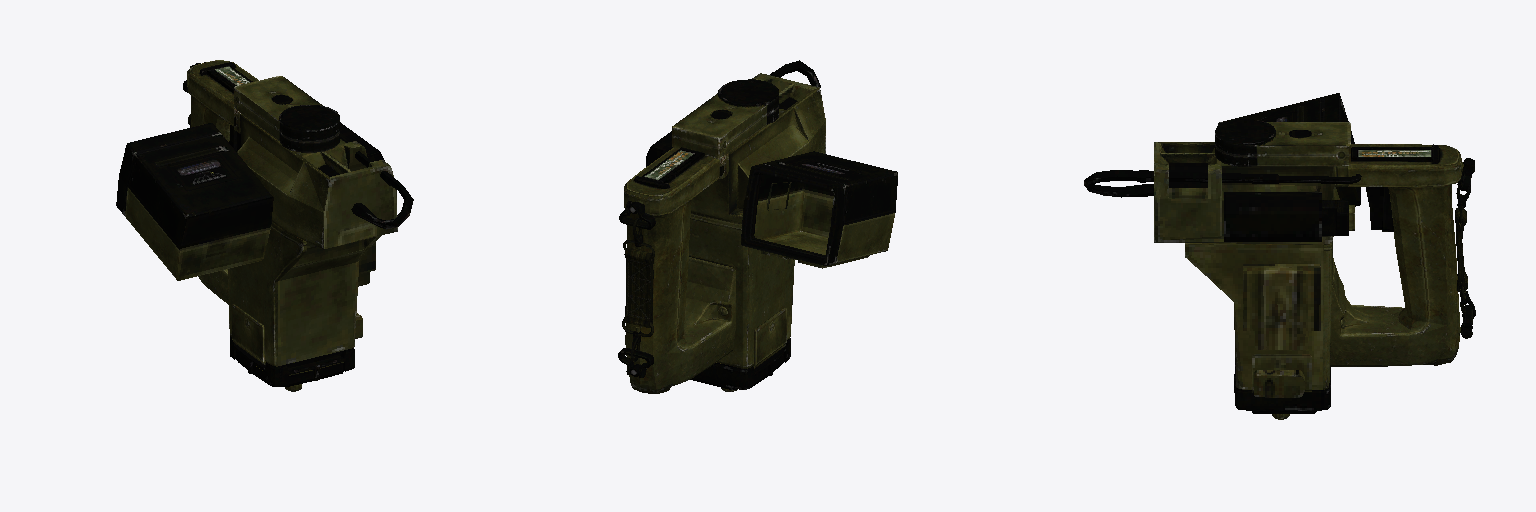
The picture shows the model from 3 angles: view 1: azimuth 30°, elevation 25°; view 2: azimuth 150°, elevation 25°; view 3: azimuth 270°, elevation 25°; orthographic projection.
Size of the model in its own units: 0.2219 by 0.2959 by 0.3696.
Materials: 1 (1 with a texture image).